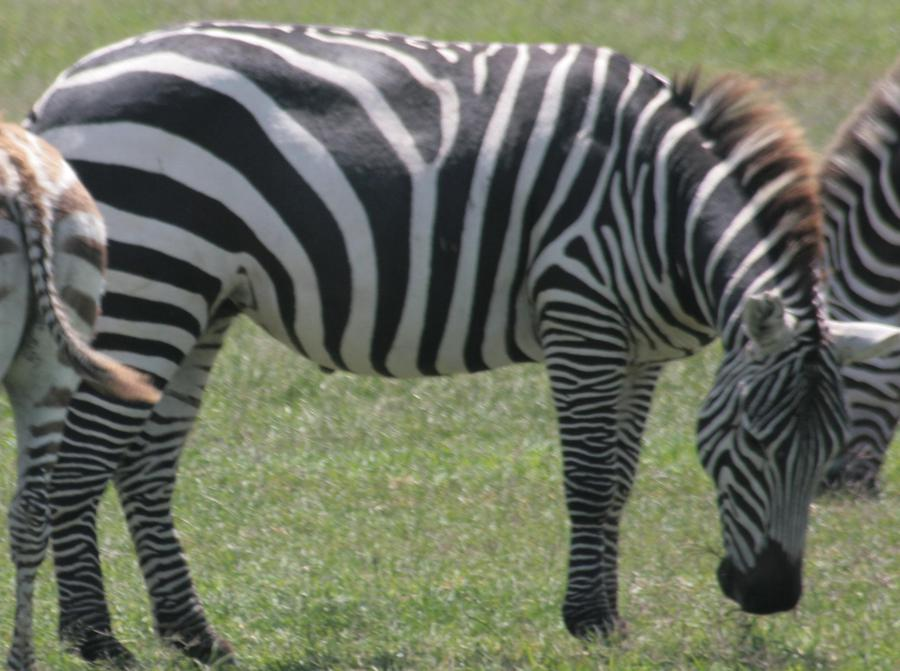zebra_plains: (58, 23, 678, 354)
